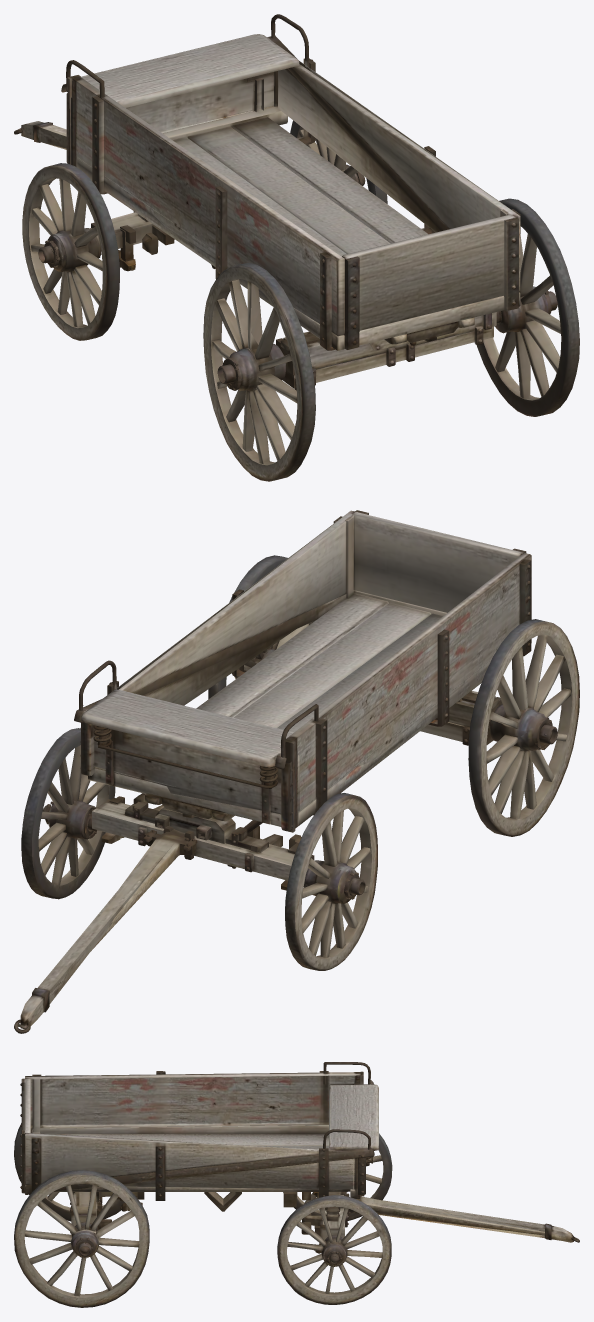
Rendered from wagon.glb.
3 views of the same model, one above another, from view 1: azimuth 30°, elevation 25°; view 2: azimuth 150°, elevation 25°; view 3: azimuth 270°, elevation 25° (orthographic). The views are drawn at different scales.
Parts seen in each view (by area): view 1: wagon; view 2: wagon; view 3: wagon.
Part boxes in pixels (x1,y1,x2,y2): wagon: [14, 14, 579, 481]; wagon: [14, 510, 579, 1033]; wagon: [14, 1062, 579, 1307].
Bounding box in the file's own units: 2.32 × 1.7 × 5.2.
1 material, 1 textured.
